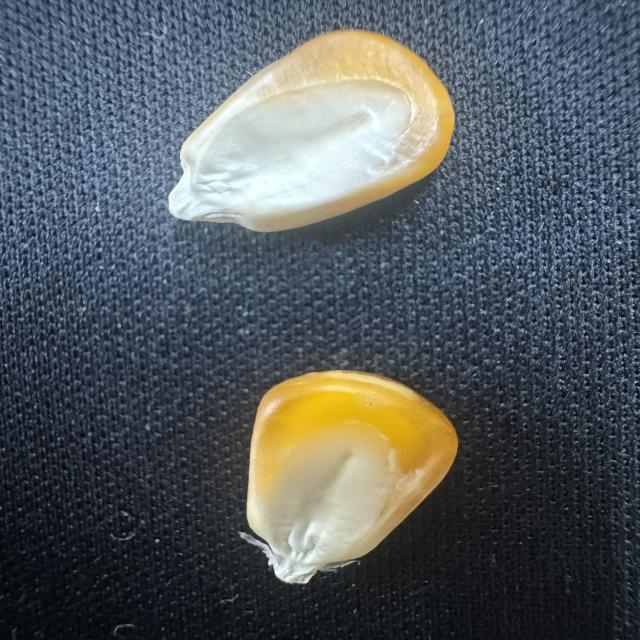Good-Seed: (152, 18, 462, 242), (237, 356, 463, 590)
